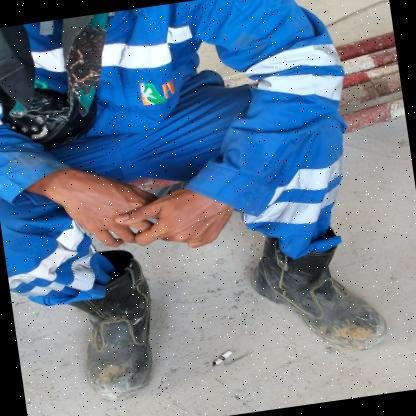bota: (241, 213, 393, 369), (56, 245, 166, 402)
